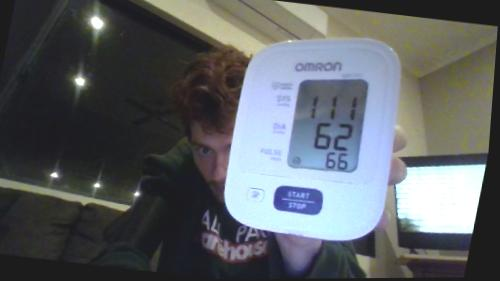bpm: (285, 66, 373, 180)
